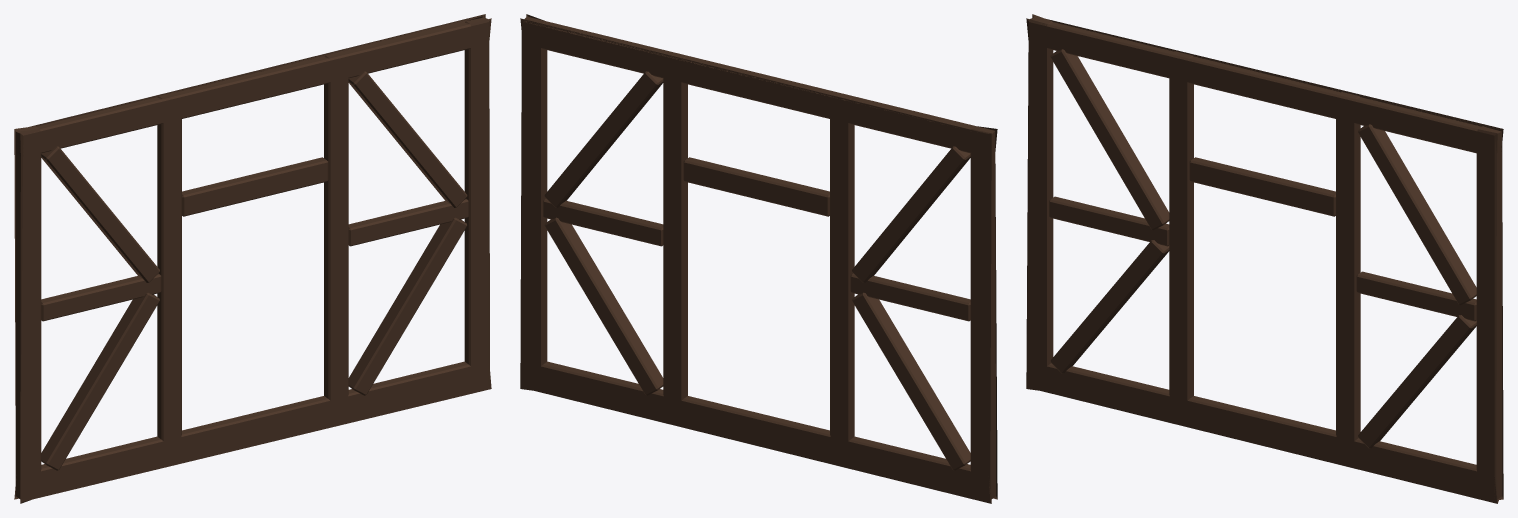
Rendered from timber_door_w16.fbx.
3 renders of one model, left to right at view 1: azimuth 30°, elevation 25°; view 2: azimuth 150°, elevation 25°; view 3: azimuth 330°, elevation 25°, orthographic.
Visible parts, largest first — view 1: timber_door_w16; view 2: timber_door_w16; view 3: timber_door_w16.
Part boxes in pixels (box(x1,y1,x2,y2)): timber_door_w16: box(14, 14, 491, 503); timber_door_w16: box(520, 14, 997, 503); timber_door_w16: box(1026, 14, 1503, 503).
Bounding box in the file's own units: 1610 × 1210 × 55.
